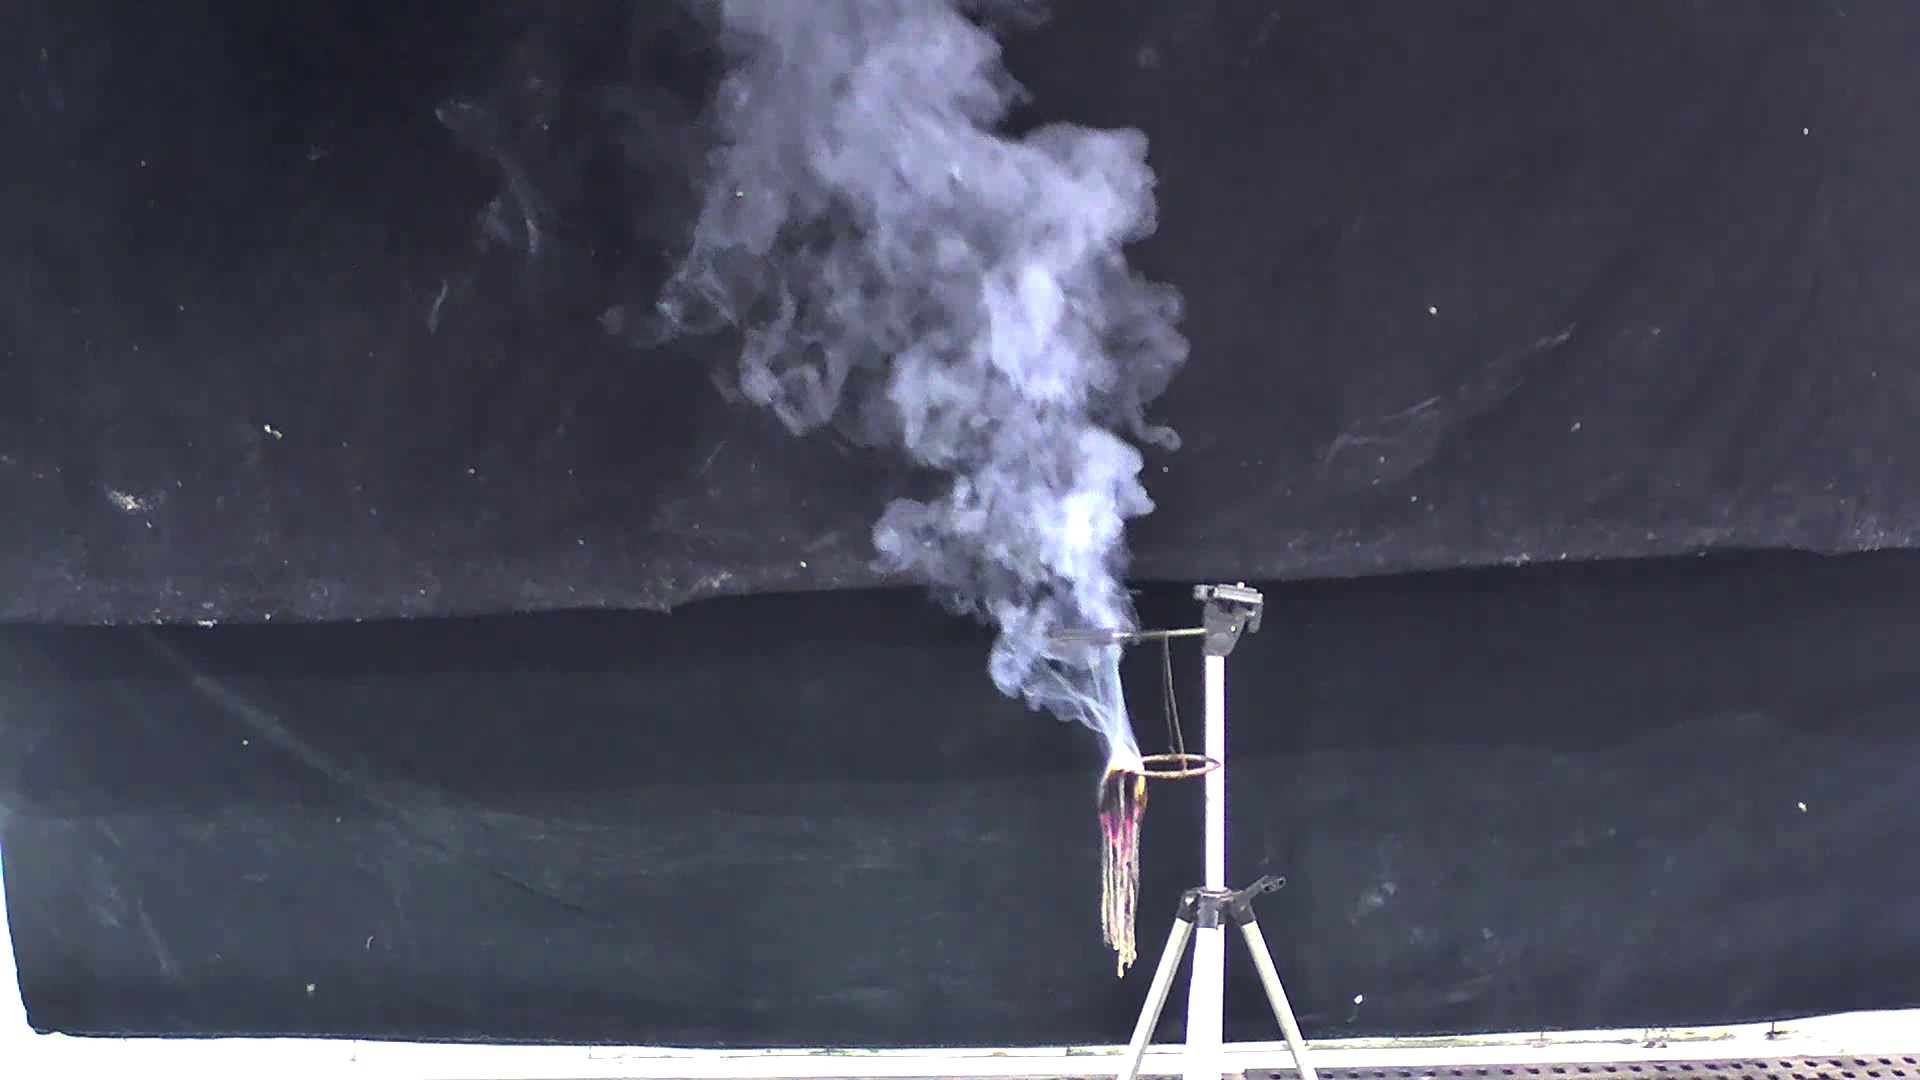smoke: (626, 28, 1197, 761)
